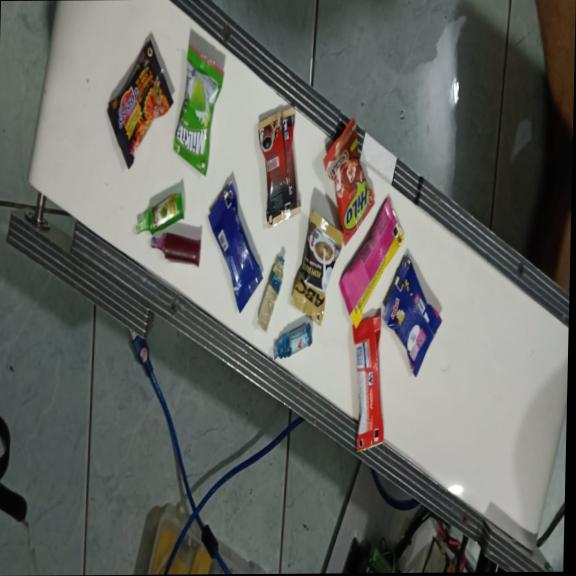Plastik: (103, 37, 174, 170), (338, 194, 405, 329), (205, 180, 264, 313), (380, 254, 443, 377), (171, 41, 224, 177), (321, 116, 375, 244), (289, 209, 343, 325), (254, 104, 303, 227), (349, 313, 386, 453), (134, 191, 183, 239), (257, 255, 285, 333), (149, 232, 200, 270), (272, 321, 312, 363)
